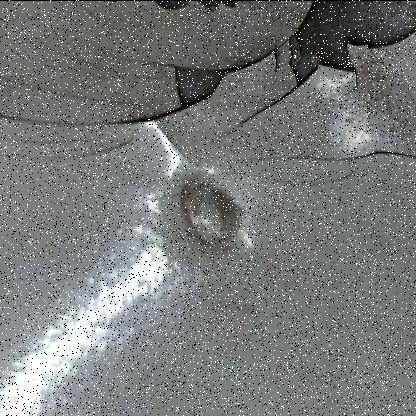Crack: (0, 1, 415, 266)
